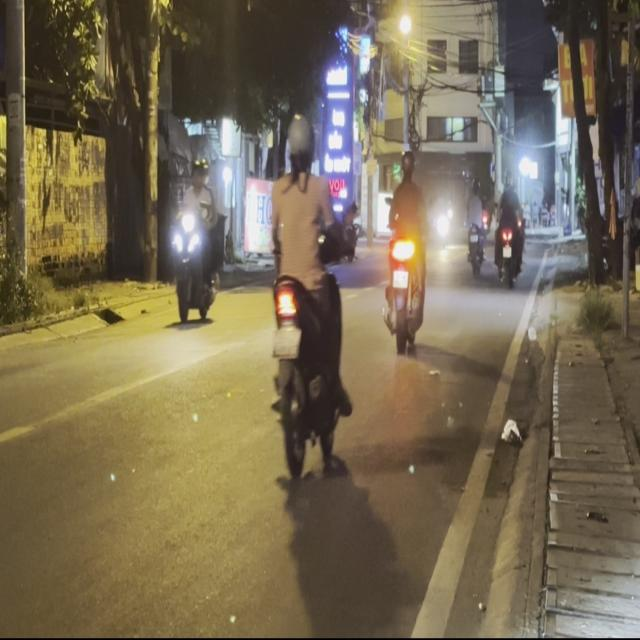helmet: (284, 113, 314, 174), (192, 154, 210, 185), (399, 146, 415, 178)
licenseplate: (264, 110, 352, 475), (381, 144, 429, 353), (167, 151, 224, 325)
nohelmet: (271, 327, 299, 356), (393, 270, 408, 289)
